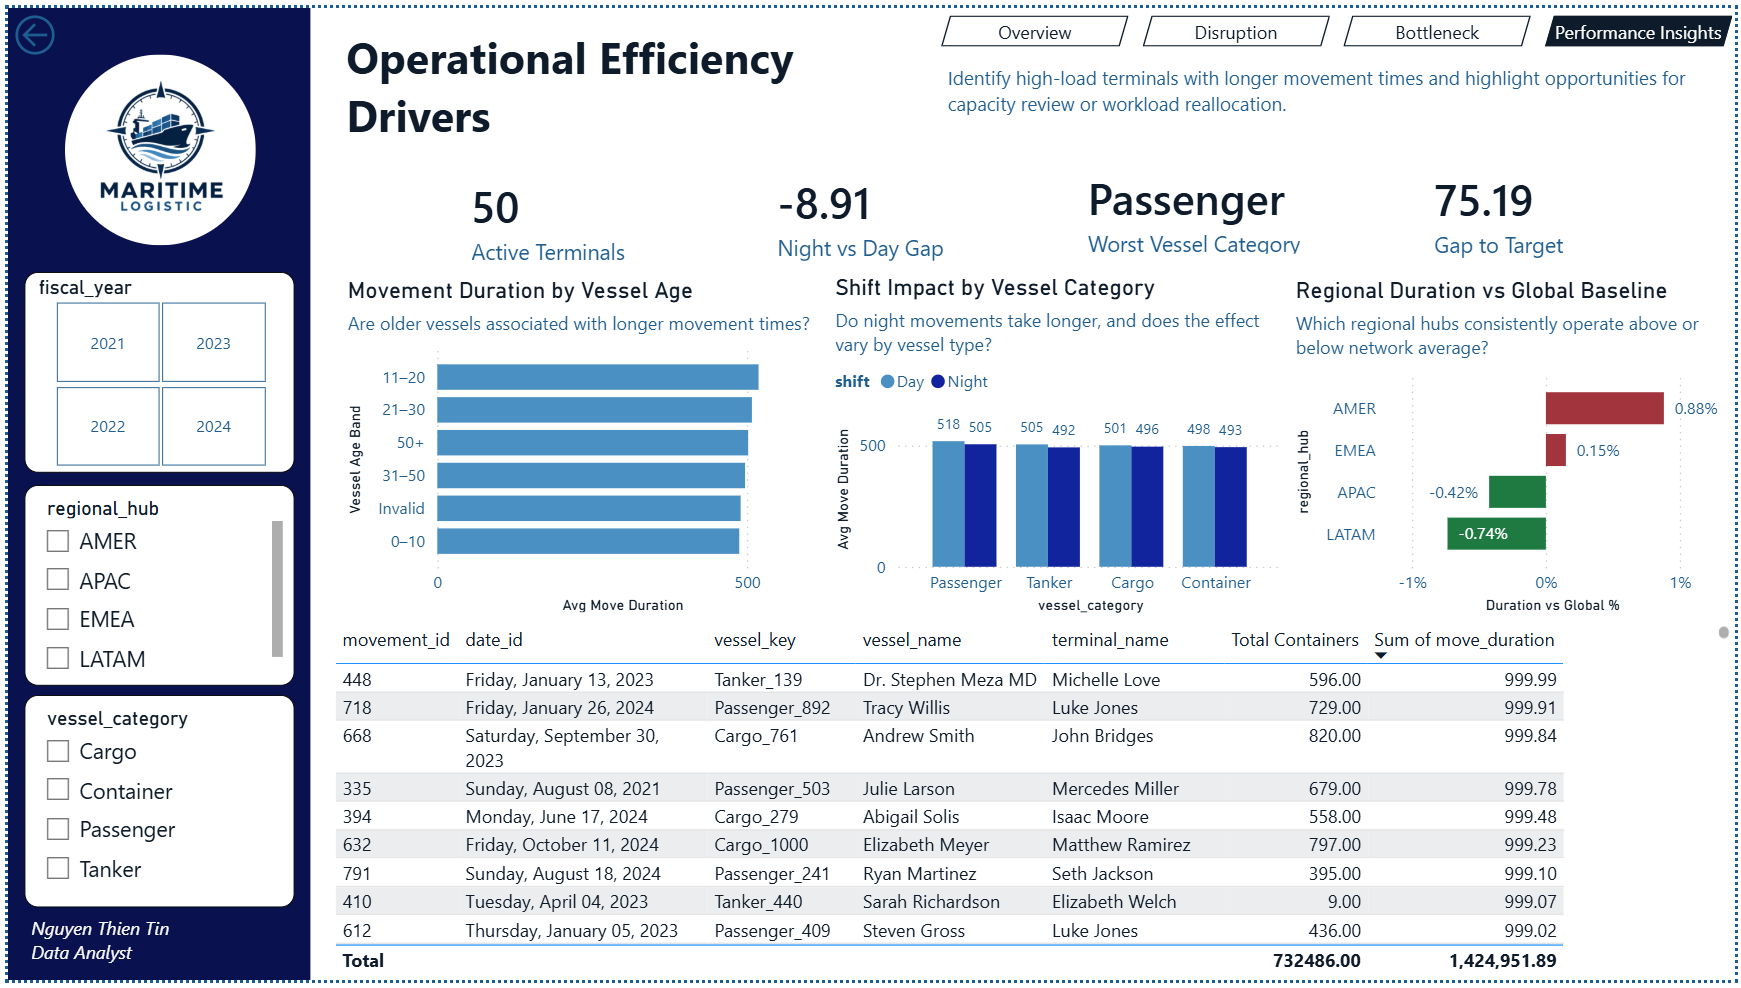

Layout of this report page (visuals, bound fields, positions):
{"tool":"powerbi","page":{"name":"Drivers & Strategy","canvas":[1280,720],"ordinal":3},"visuals":[{"type":"shape","title":"BG1","box":[0,0,224.3,720],"z":0},{"type":"cardVisual","fields":{"Data":["_Measures.Worst Vessel Category"]},"box":[742.5,115,220,80],"z":1000},{"type":"cardVisual","fields":{"Data":["_Measures.Active Terminals"]},"box":[322.5,115,200,84],"z":2000},{"type":"cardVisual","fields":{"Data":["_Measures.Night vs Day Gap"]},"box":[522.5,111.2,220,84],"z":3000},{"type":"cardVisual","fields":{"Data":["_Measures.Gap to Target"]},"box":[962.5,111.2,177.5,83.8],"z":4000},{"type":"slicer","fields":{"Values":["dim_time.fiscal_year"]},"box":[12.5,195,200,148.8],"z":5000},{"type":"slicer","fields":{"Values":["dim_terminal.regional_hub"]},"box":[12.5,353.8,200,148.8],"z":6000},{"type":"slicer","fields":{"Values":["dim_vessel.vessel_category"]},"box":[12.5,508.8,200,157.5],"z":7000},{"type":"image","box":[42.2,34.4,141.1,141.1],"z":8000},{"type":"textbox","box":[245.6,8.9,445.6,106.7],"z":9000},{"type":"textbox","box":[12.5,666.2,156.2,53.8],"z":10000},{"type":"textbox","box":[691.2,36.2,588.8,48.8],"z":11000},{"type":"actionButton","box":[0,0,100,40],"z":12000},{"type":"pageNavigator","box":[691.2,5,588.8,23.8],"z":13000}]}

Visuals, with their boxes in screenshot pixels (x1, y1, x2, y2), scaled from the page's 1280x720 canvas onto the 1741x988 screenshot:
"BG1" shape: <box>0,0,305,987</box>
cardVisual - _Measures.Worst Vessel Category: <box>1010,158,1309,268</box>
cardVisual - _Measures.Active Terminals: <box>439,158,711,273</box>
cardVisual - _Measures.Night vs Day Gap: <box>711,153,1010,268</box>
cardVisual - _Measures.Gap to Target: <box>1309,153,1551,268</box>
slicer - dim_time.fiscal_year: <box>17,268,289,472</box>
slicer - dim_terminal.regional_hub: <box>17,485,289,690</box>
slicer - dim_vessel.vessel_category: <box>17,698,289,914</box>
image: <box>57,47,249,241</box>
textbox: <box>334,12,940,159</box>
textbox: <box>17,914,229,987</box>
textbox: <box>940,50,1740,117</box>
actionButton: <box>0,0,136,55</box>
pageNavigator: <box>940,7,1740,40</box>
